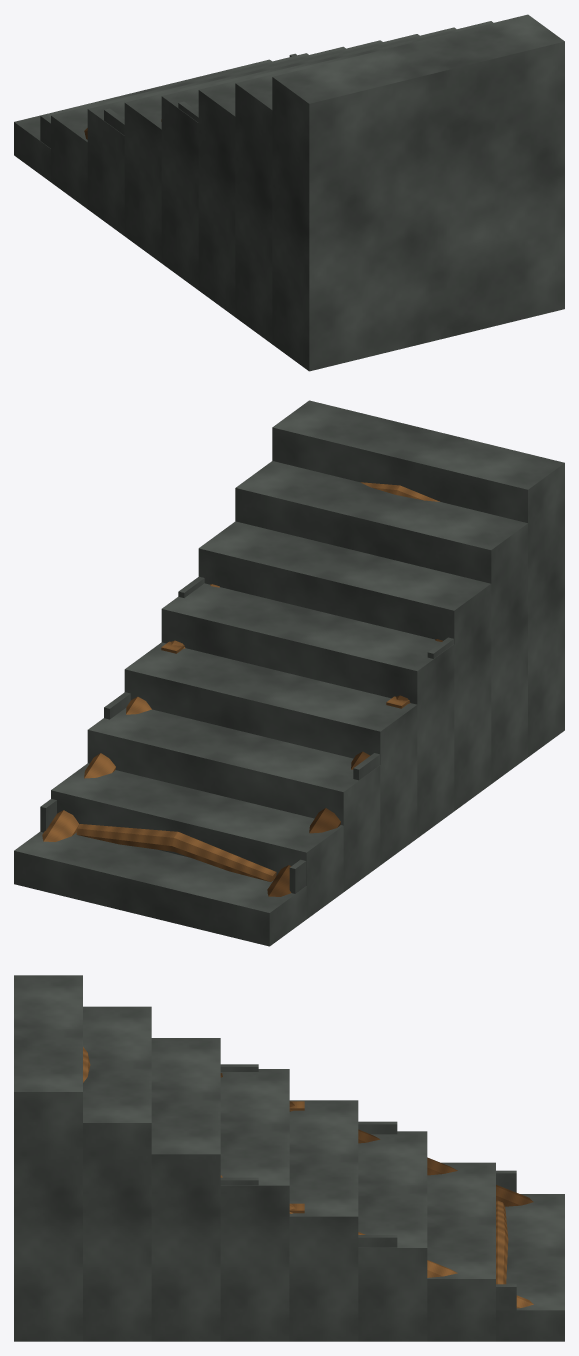
The model's file is rootforged-understone-stairs.glb.
3 views of the same model, one above another, from view 1: azimuth 30°, elevation 25°; view 2: azimuth 150°, elevation 25°; view 3: azimuth 270°, elevation 25° (orthographic). The views are drawn at different scales.
Visible parts, largest first — view 1: stone-tread-7, stone-tread-6, stone-tread-5, stone-tread-4, stone-tread-3, stone-tread-2, stone-tread-1, stone-tread-0; view 2: stone-tread-7, stone-tread-6, stone-tread-5, stone-tread-4, stone-tread-3, stone-tread-2, stone-tread-0, stone-tread-1, landing-root-crown-0, grown-stair-cheek-1, grown-stair-cheek--1; view 3: stone-tread-7, stone-tread-6, stone-tread-5, stone-tread-4, stone-tread-3, stone-tread-2, stone-tread-1, stone-tread-0, grown-stair-cheek--1, landing-root-crown-0, stair-carved-cheek-1-0, grown-stair-cheek-1 (+2 smaller).
Part boxes in pixels (x1,y1,x2,y2): stone-tread-7: [272, 14, 564, 371]; stone-tread-6: [235, 21, 493, 343]; stone-tread-5: [198, 27, 456, 316]; stone-tread-4: [161, 34, 419, 290]; stone-tread-3: [124, 40, 382, 262]; stone-tread-2: [87, 46, 345, 235]; stone-tread-1: [51, 53, 308, 208]; stone-tread-0: [14, 59, 271, 181]; stone-tread-7: [272, 400, 564, 756]; stone-tread-6: [235, 461, 527, 783]; stone-tread-5: [198, 521, 491, 810]; stone-tread-4: [161, 583, 454, 837]; stone-tread-3: [124, 642, 417, 865]; stone-tread-2: [87, 708, 380, 891]; stone-tread-0: [14, 832, 306, 946]; stone-tread-1: [51, 763, 343, 918]; landing-root-crown-0: [76, 824, 276, 881]; grown-stair-cheek-1: [42, 584, 219, 841]; grown-stair-cheek--1: [267, 639, 442, 896]; stone-tread-7: [14, 975, 82, 1341]; stone-tread-6: [83, 1006, 151, 1341]; stone-tread-5: [151, 1038, 220, 1341]; stone-tread-4: [220, 1069, 289, 1341]; stone-tread-3: [289, 1100, 358, 1341]; stone-tread-2: [358, 1131, 427, 1341]; stone-tread-1: [427, 1162, 495, 1341]; stone-tread-0: [496, 1194, 564, 1341]; grown-stair-cheek--1: [220, 1073, 533, 1206]; landing-root-crown-0: [496, 1200, 508, 1284]; stair-carved-cheek-1-0: [496, 1284, 516, 1310]; grown-stair-cheek-1: [220, 1175, 533, 1308].
Bounding box in the file's own units: 2 × 2 × 4.
3 materials, 3 textured.
